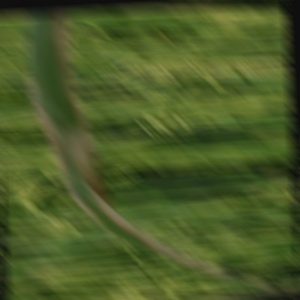Leaf_Blast: (29, 16, 85, 184)
